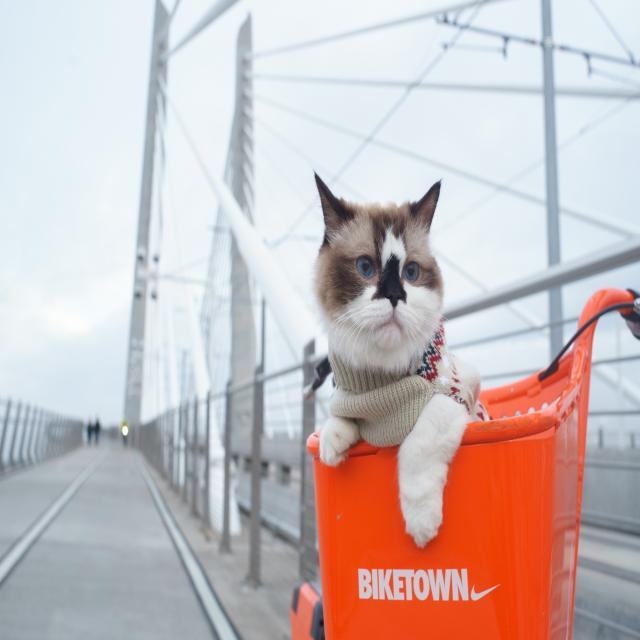animal: (263, 106, 479, 587)
